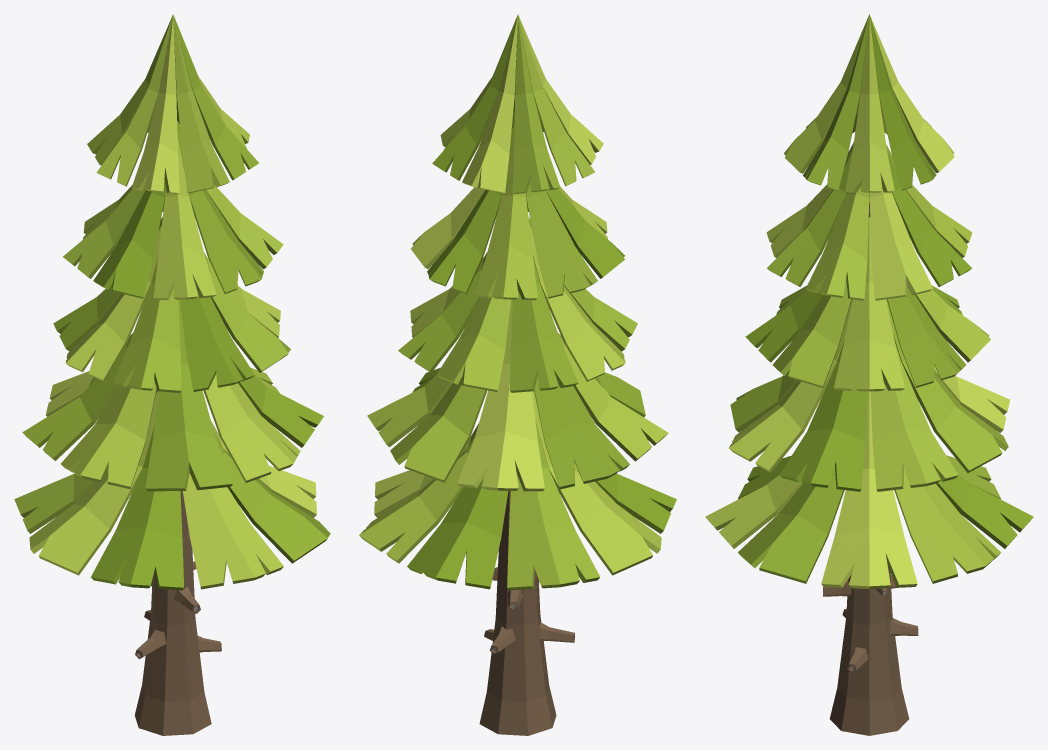
The model's file is LPW_Tree_A1_6.5m_01.fbx.
3 renders of one model, left to right at view 1: azimuth 30°, elevation 25°; view 2: azimuth 150°, elevation 25°; view 3: azimuth 270°, elevation 25°, orthographic.
Parts seen in each view (by area): view 1: LPW_Tree_A1_6.5m_01; view 2: LPW_Tree_A1_6.5m_01; view 3: LPW_Tree_A1_6.5m_01.
Boxes of the visible parts, x1,y1,x2,y2 form: LPW_Tree_A1_6.5m_01: [14, 14, 330, 735]; LPW_Tree_A1_6.5m_01: [359, 14, 676, 735]; LPW_Tree_A1_6.5m_01: [705, 14, 1033, 735].
Bounding box in the file's own units: 2.83 × 6.79 × 2.87.
